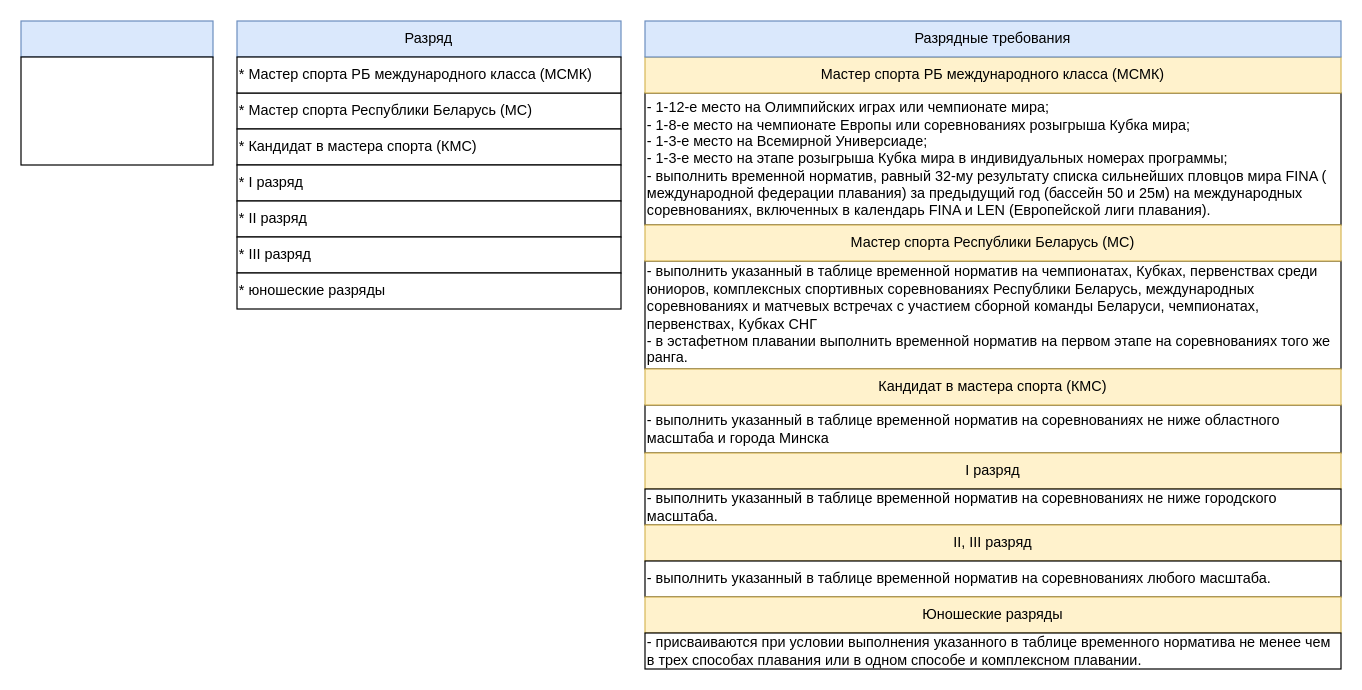
Some shapes in this 1362 by 690 pixel diagram are drawn without their labels. Here are the shapes that lost their labels. From the top down, the centre of each, then its label:
At [116,38]: "Способ плавания".
At [116,110]: "* Вольный стиль * Брасс * Баттерфляй * На спине * Комплексное плавание".
